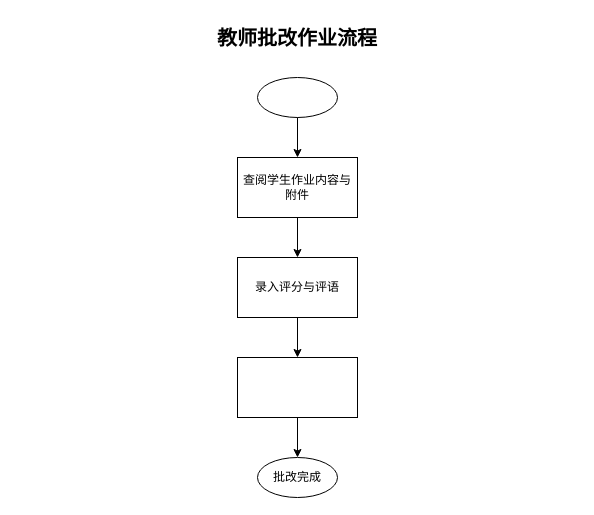
Some shapes in this 594 by 515 pixel diagram are drawn without their labels. Each missing label, with the centre of its shape:
"教师查看提交列表" goes at point (297, 97).
"更新提交记录状态为“已批改”" goes at point (297, 387).
